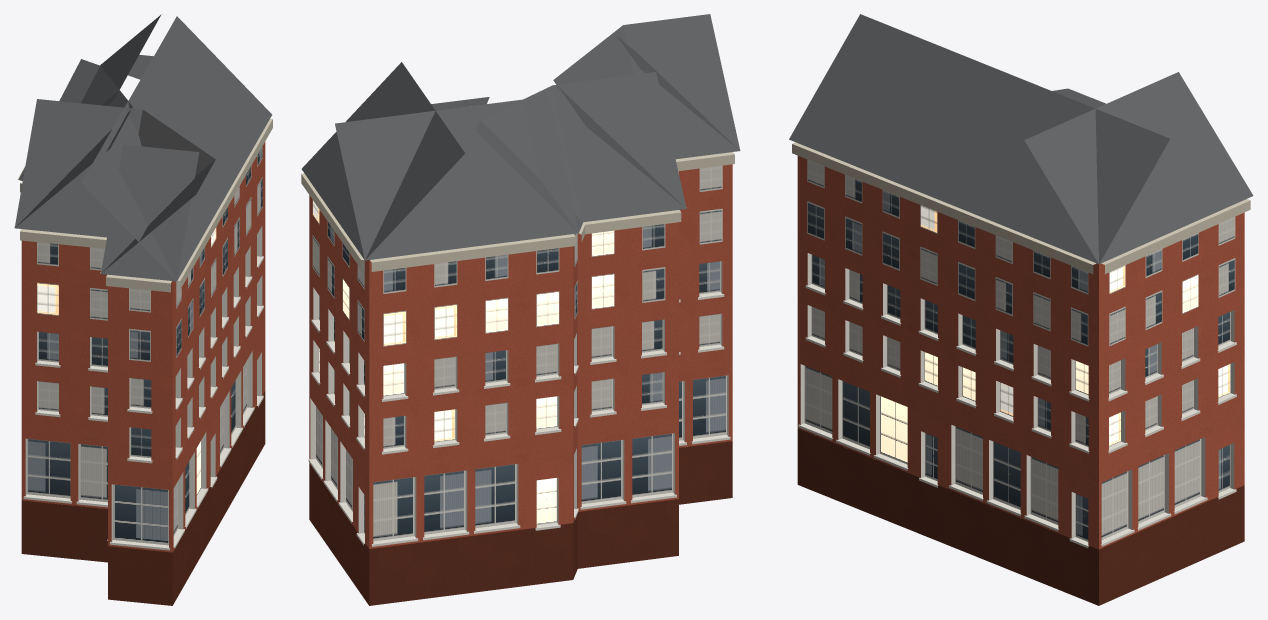
Rendered from z2_fabrik17.glb.
3 renders of one model, left to right at view 1: azimuth 30°, elevation 25°; view 2: azimuth 150°, elevation 25°; view 3: azimuth 270°, elevation 25°, orthographic. The views are drawn at different scales.
Parts seen in each view (by area): view 1: z2_fabrik17; view 2: z2_fabrik17; view 3: z2_fabrik17.
Part boxes in pixels (bbox=[...]): z2_fabrik17: bbox=[14, 14, 272, 605]; z2_fabrik17: bbox=[301, 14, 740, 605]; z2_fabrik17: bbox=[789, 14, 1253, 605].
Size of the model in its own units: 18.22 by 23.4 by 23.14.
3 materials, 3 textured.
